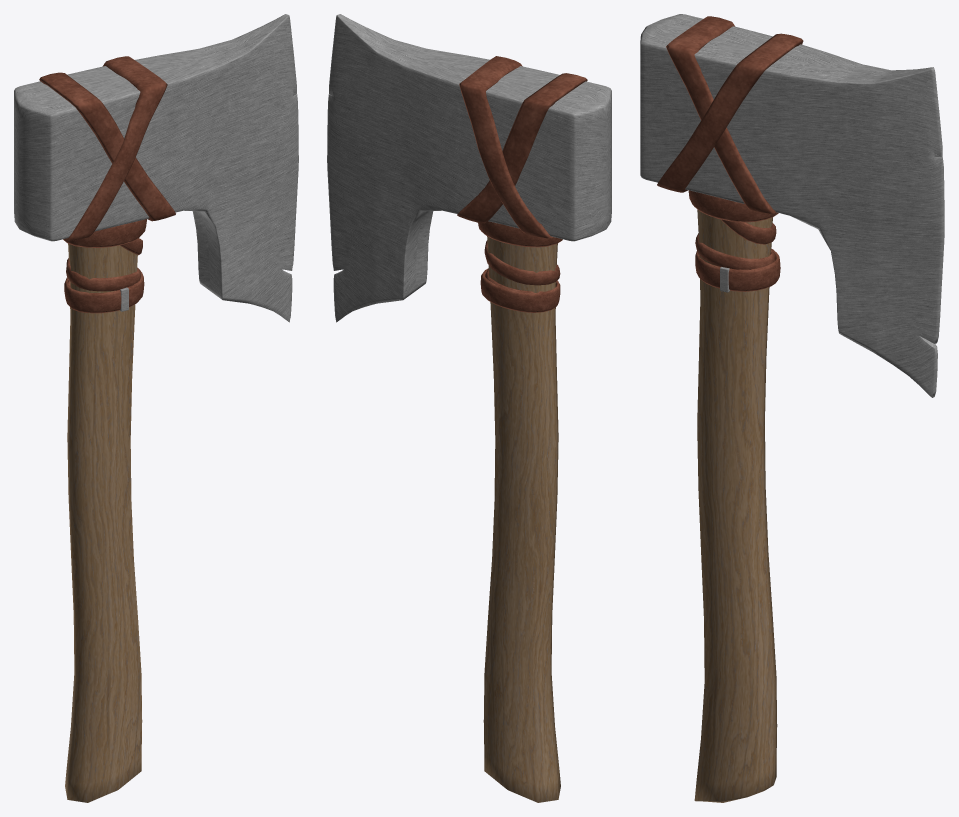
File: weapon_textured.fbx
3 views of the same model, side by side, from view 1: azimuth 30°, elevation 25°; view 2: azimuth 150°, elevation 25°; view 3: azimuth 330°, elevation 25° (orthographic). The views are drawn at different scales.
Parts seen in each view (by area): view 1: polySurface11; view 2: polySurface11; view 3: polySurface11.
Boxes of the visible parts, x1=… form: polySurface11: x1=14, y1=14, x2=298, y2=802; polySurface11: x1=327, y1=14, x2=611, y2=802; polySurface11: x1=640, y1=14, x2=944, y2=802.
Bounding box in the file's own units: 22.87 × 57.3 × 6.72.
